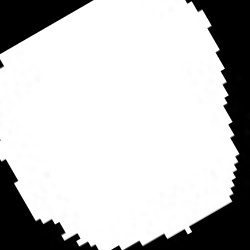spot: (1, 2, 240, 248)
